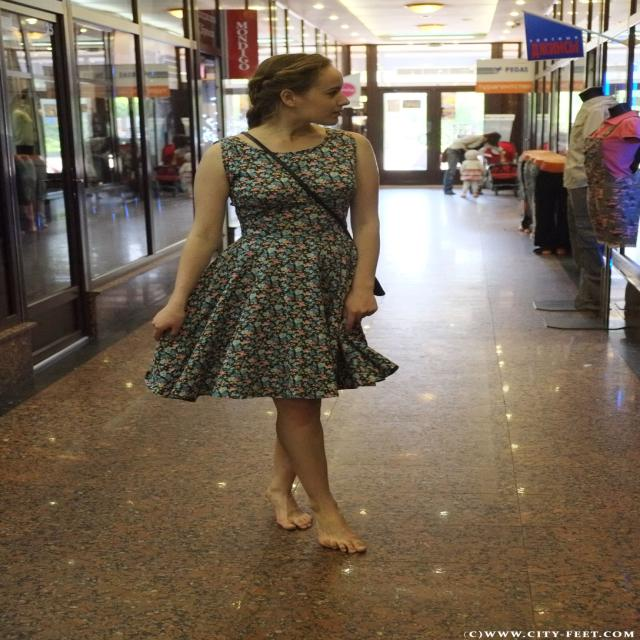No Safety Boots: (312, 509, 368, 553), (265, 485, 313, 530)
